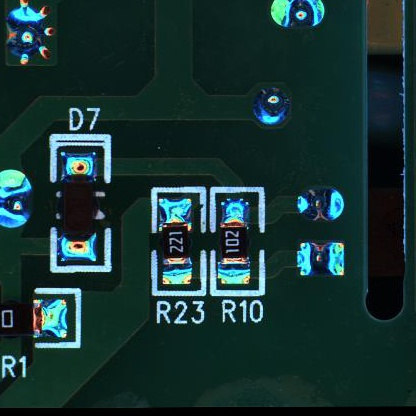spot: (1, 3, 56, 68), (1, 168, 35, 232), (296, 240, 349, 280), (292, 187, 350, 222), (269, 1, 327, 30), (253, 85, 291, 127)
